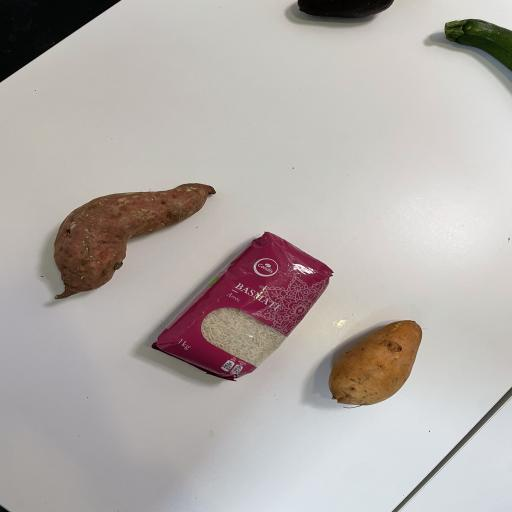rice: (136, 213, 350, 401)
sweet_potato: (38, 161, 248, 317), (306, 305, 452, 419)
